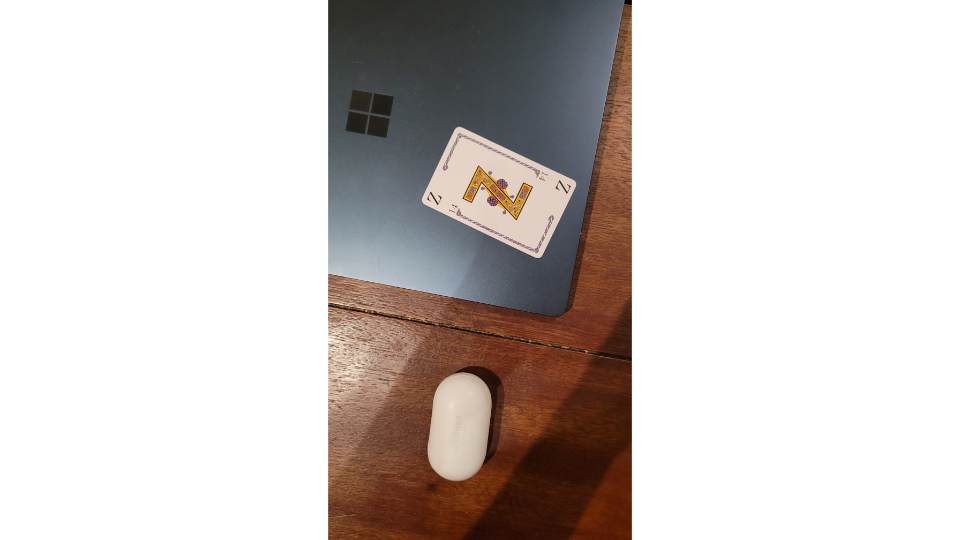Z: (419, 123, 580, 260)
